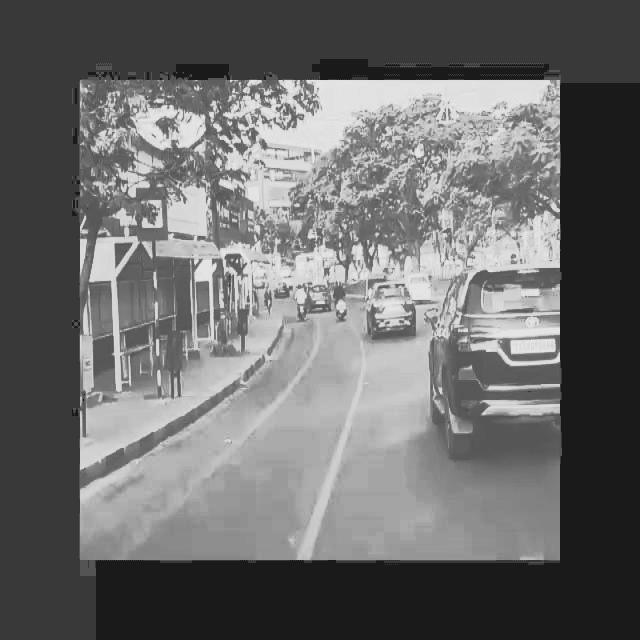Bike: (333, 279, 352, 323), (294, 285, 312, 320)
Car: (431, 252, 561, 454), (363, 274, 422, 348), (406, 273, 435, 302), (308, 283, 334, 313)
